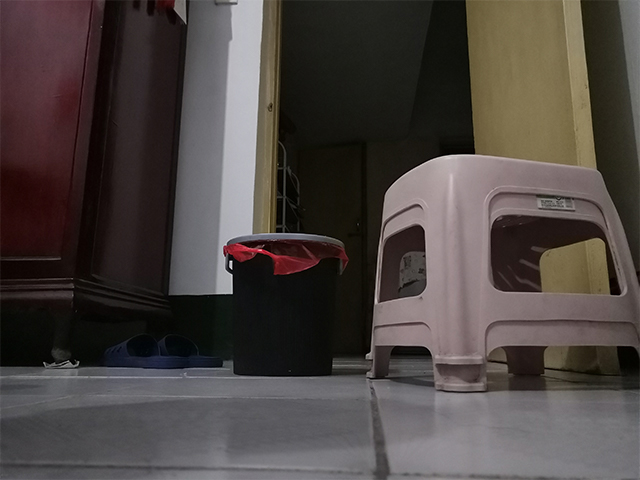cabinet: (1, 1, 190, 365)
slippers: (97, 331, 224, 369)
stool: (361, 151, 640, 395)
trashcan: (220, 230, 352, 378)
